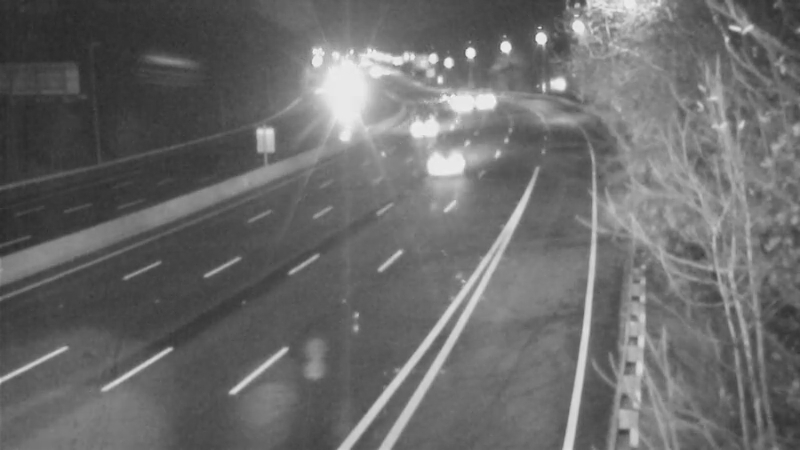vehicle: (413, 125, 493, 205), (417, 73, 467, 123), (461, 74, 511, 124), (435, 78, 485, 128), (400, 104, 450, 154)
